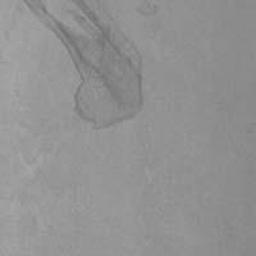Water spot: (19, 0, 146, 131), (137, 0, 159, 18)
